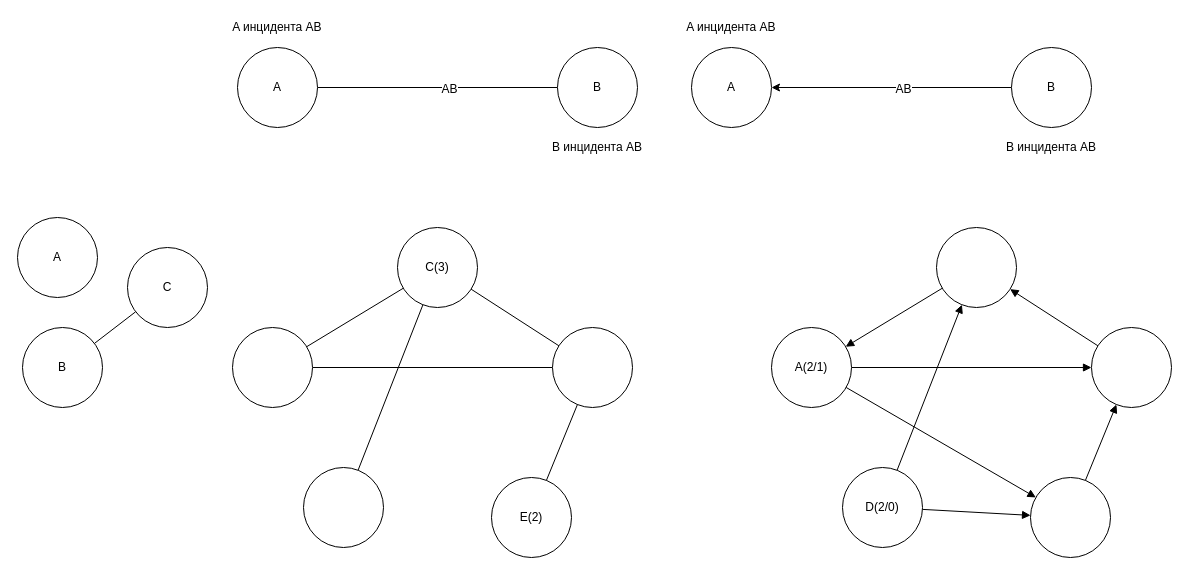
The diagram is 1189 pixels wide and 575 high, and some of its shapes have lost their labels. Here are the shapes that lost their labels. From the top down, the centre of each, then its label:
At [976,267]: "С(1/2)".
At [272,367]: "A(2)".
At [592,367]: "B(3)".
At [1131,367]: "B(1/2)".
At [343,507]: "D(1)".
At [1070,517]: "E(1/2)".
